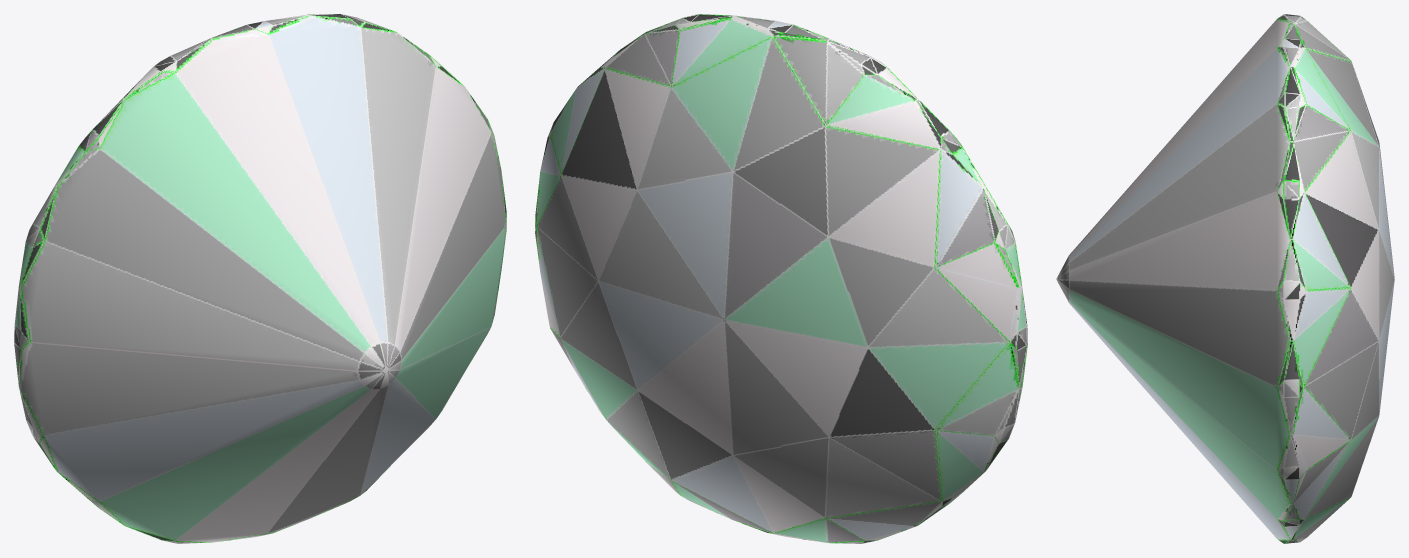
Rendered from Diamond.fbx.
3 views of the same model, side by side, from view 1: azimuth 30°, elevation 25°; view 2: azimuth 150°, elevation 25°; view 3: azimuth 270°, elevation 25° (orthographic). The views are drawn at different scales.
Visible parts, largest first — view 1: diamond; view 2: diamond; view 3: diamond.
Boxes of the visible parts, bbox=[...] form: diamond: bbox=[14, 14, 506, 543]; diamond: bbox=[535, 14, 1027, 543]; diamond: bbox=[1056, 14, 1394, 543].
Bounding box in the file's own units: 0.3535 × 0.3537 × 0.2293.
